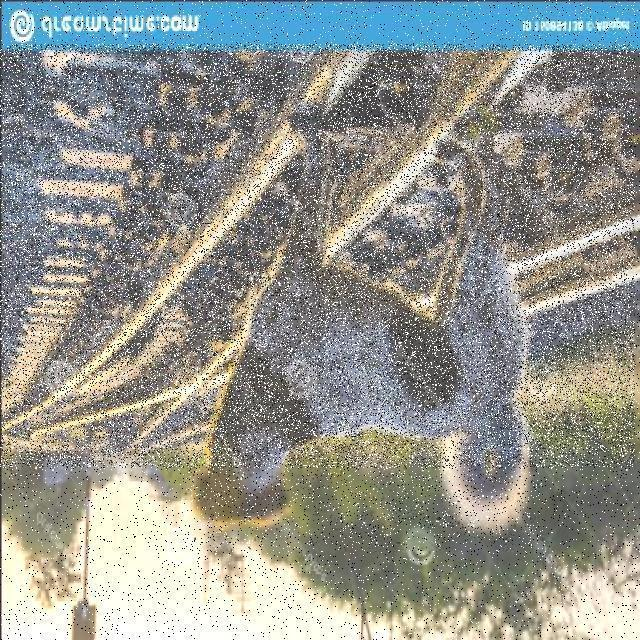rail: (2, 45, 636, 469)
